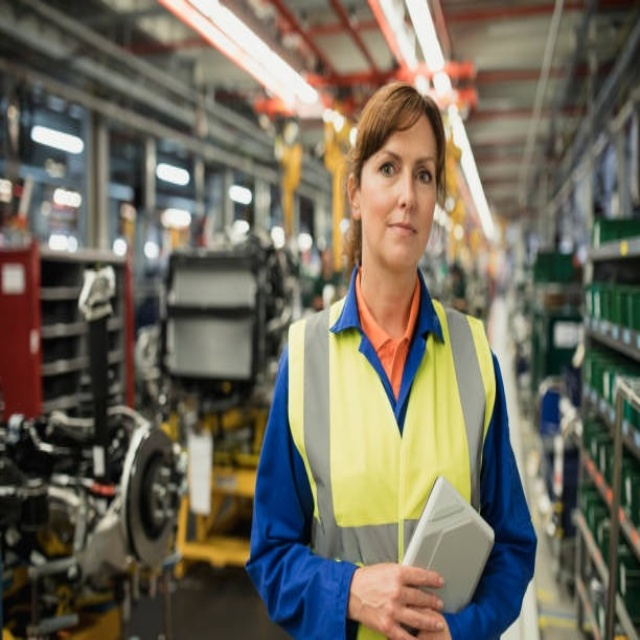Sin_gafas: (372, 144, 437, 195)
Sin_guantes: (350, 562, 450, 640)
Sin_mascara: (378, 212, 418, 259)
